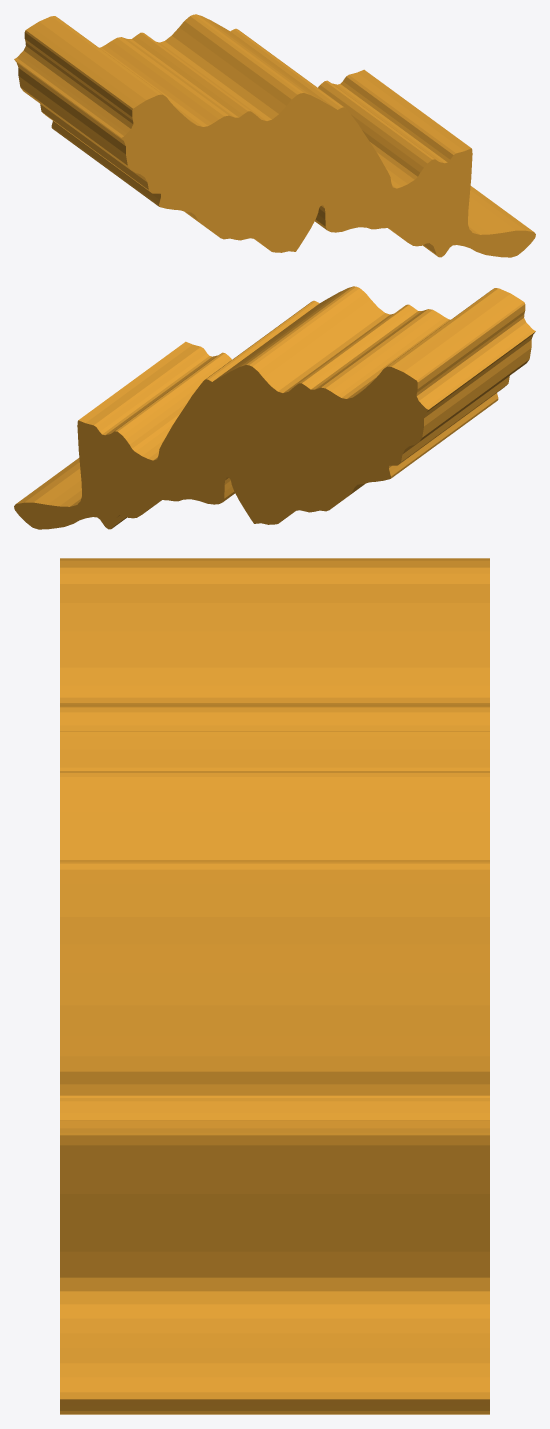
Rendered from huacaybamba.glb.
3 renders of one model, top to bottom at view 1: azimuth 30°, elevation 25°; view 2: azimuth 150°, elevation 25°; view 3: azimuth 270°, elevation 25°, orthographic. The views are drawn at different scales.
Parts seen in each view (by area): view 1: huacaybamba; view 2: huacaybamba; view 3: huacaybamba.
Part boxes in pixels (left/top/right/bottom): huacaybamba: left=14, top=14, right=535, bottom=257; huacaybamba: left=14, top=286, right=535, bottom=529; huacaybamba: left=60, top=558, right=489, bottom=1414.
Bounding box in the file's own units: 2.97 × 1.7 × 1.33.
